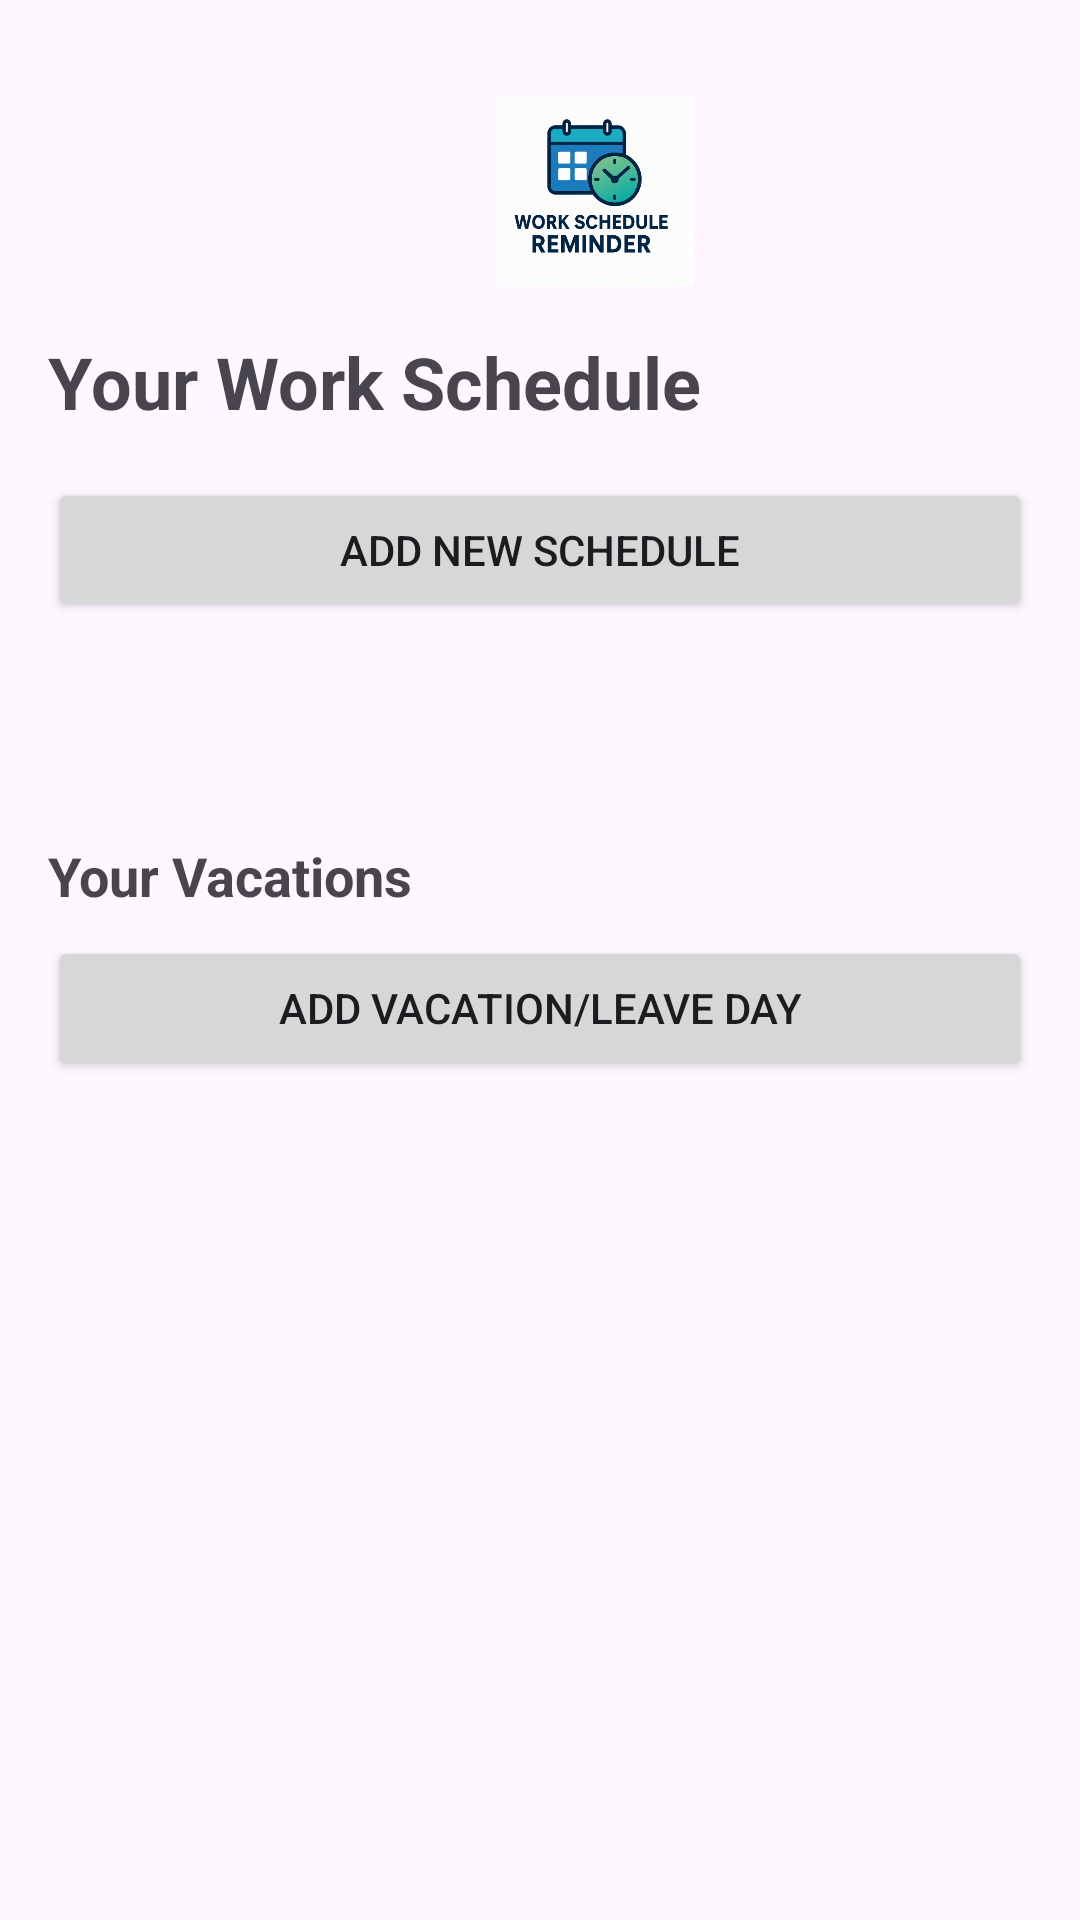

Named icons in this screenshot (1080 × 1920) and their centers, [x,y]:
app: [591,186]
